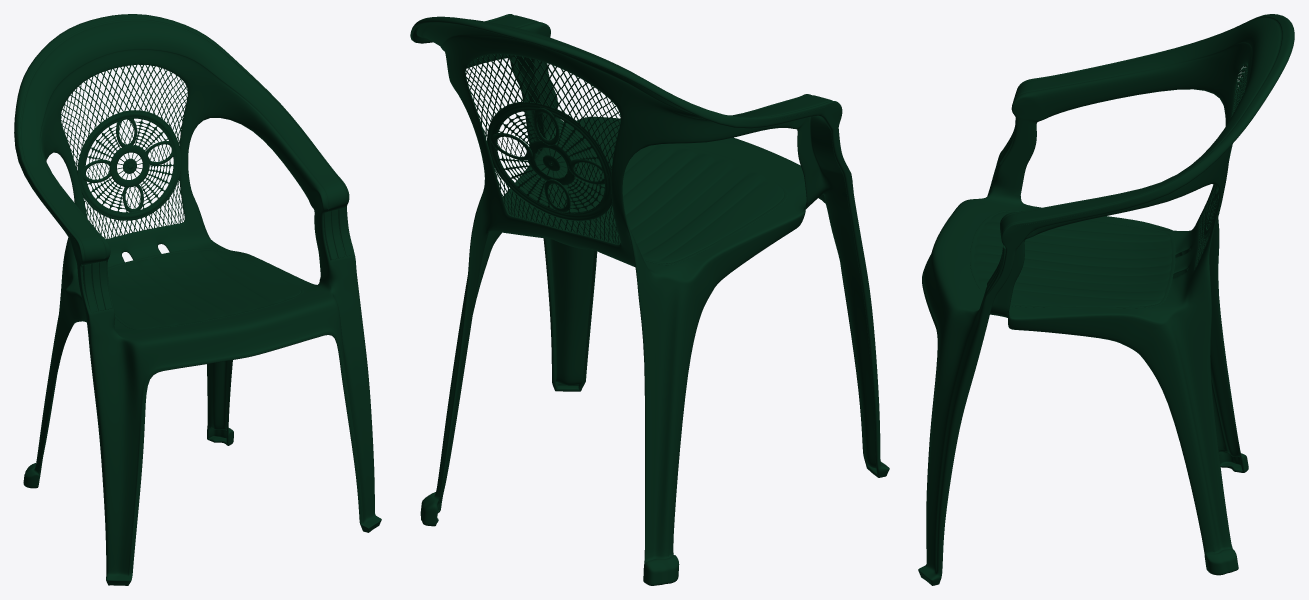
File: Plastic chair.obj
3 views of the same model, side by side, from view 1: azimuth 30°, elevation 25°; view 2: azimuth 150°, elevation 25°; view 3: azimuth 270°, elevation 25° (orthographic). The views are drawn at different scales.
Parts seen in each view (by area): view 1: Plane.021_Tessellation.000_Plane.027_Plane.002; view 2: Plane.021_Tessellation.000_Plane.027_Plane.002; view 3: Plane.021_Tessellation.000_Plane.027_Plane.002.
Part boxes in pixels (x1=…): Plane.021_Tessellation.000_Plane.027_Plane.002: x1=14, y1=14, x2=381, y2=585; Plane.021_Tessellation.000_Plane.027_Plane.002: x1=410, y1=14, x2=889, y2=585; Plane.021_Tessellation.000_Plane.027_Plane.002: x1=918, y1=14, x2=1294, y2=585.
Size of the model in its own units: 1.27 by 1.9 by 1.34.
